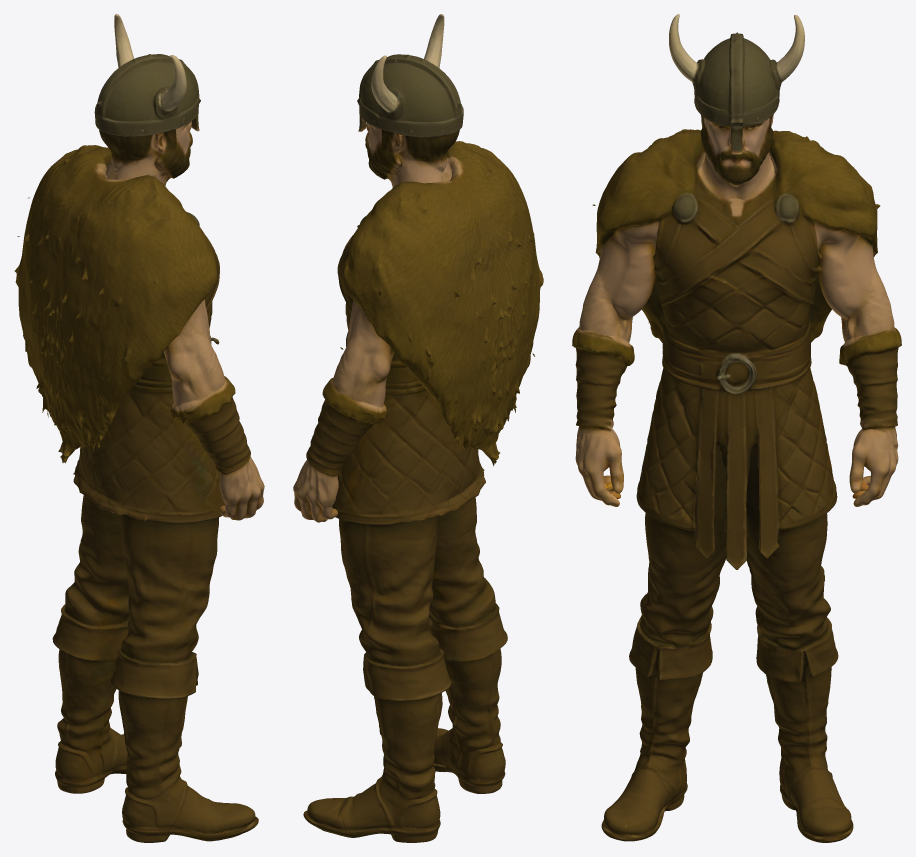
The model's file is viking+warrior+3d+model.fbx.
3 renders of one model, left to right at view 1: azimuth 30°, elevation 25°; view 2: azimuth 150°, elevation 25°; view 3: azimuth 270°, elevation 25°, orthographic. The views are drawn at different scales.
Visible parts, largest first — view 1: tripo_node_ae710184; view 2: tripo_node_ae710184; view 3: tripo_node_ae710184.
Boxes of the visible parts, <box> form: tripo_node_ae710184: <box>14,14,264,842</box>; tripo_node_ae710184: <box>293,14,543,842</box>; tripo_node_ae710184: <box>572,14,901,842</box>.
Bounding box in the file's own units: 0.2349 × 1 × 0.3716.
1 material, 1 textured.
